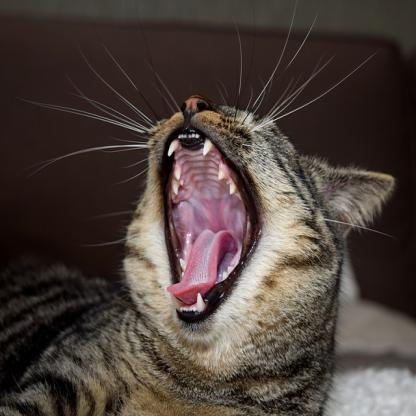cat: (0, 92, 397, 415)
